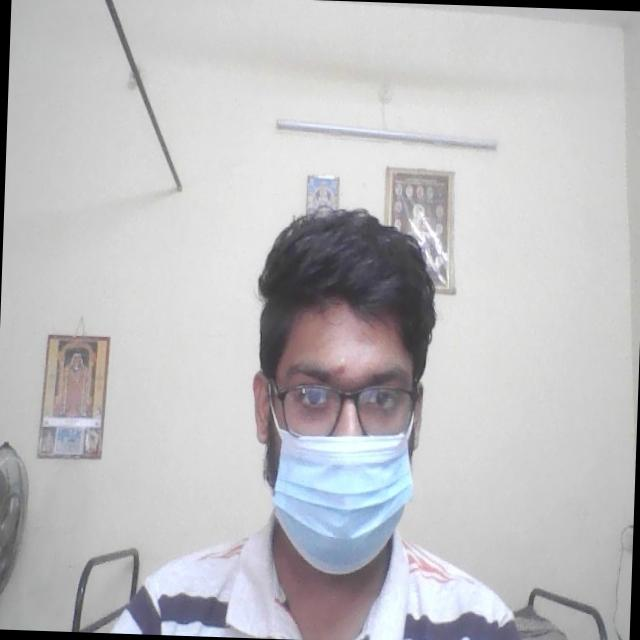Focused: (269, 350, 420, 534)
